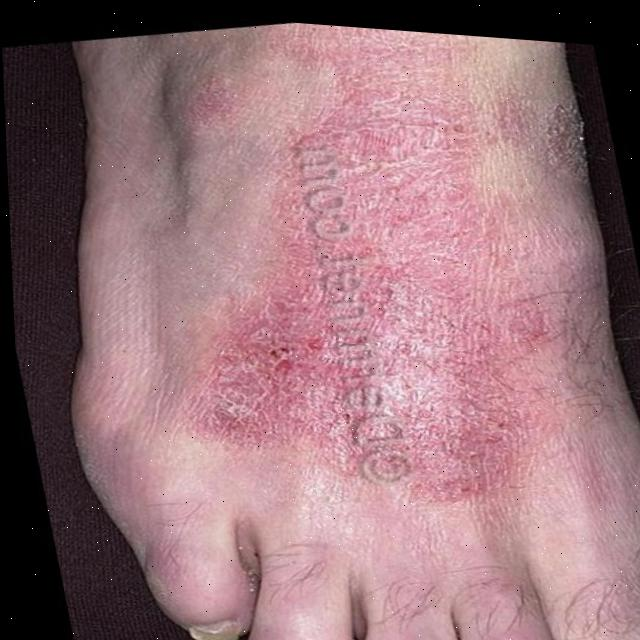Eczema: (197, 68, 541, 512)
